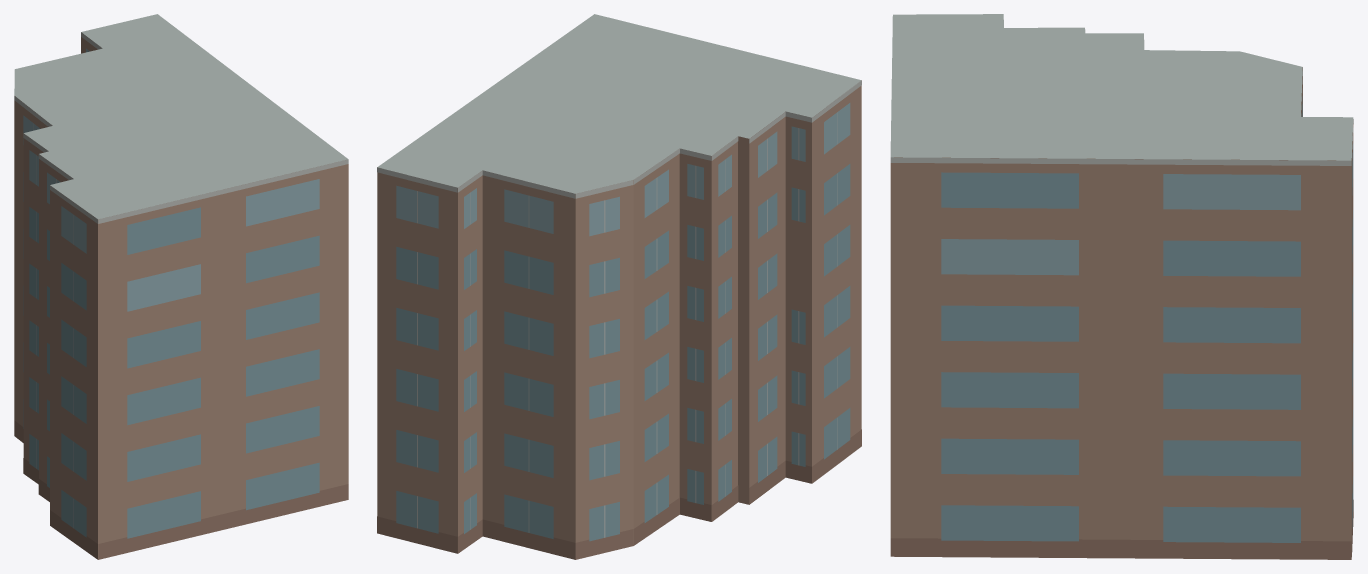
The model's file is survey-upis-32730008.glb.
3 views of the same model, side by side, from view 1: azimuth 30°, elevation 25°; view 2: azimuth 150°, elevation 25°; view 3: azimuth 270°, elevation 25° (orthographic). The views are drawn at different scales.
Parts seen in each view (by area): view 1: survey-upis-32730008.tmp; view 2: survey-upis-32730008.tmp; view 3: survey-upis-32730008.tmp.
Part boxes in pixels (x1,y1,x2,y2): survey-upis-32730008.tmp: (14, 14, 348, 559); survey-upis-32730008.tmp: (377, 14, 861, 559); survey-upis-32730008.tmp: (890, 14, 1353, 559).
Size of the model in its own units: 14.02 by 17.8 by 18.71.
